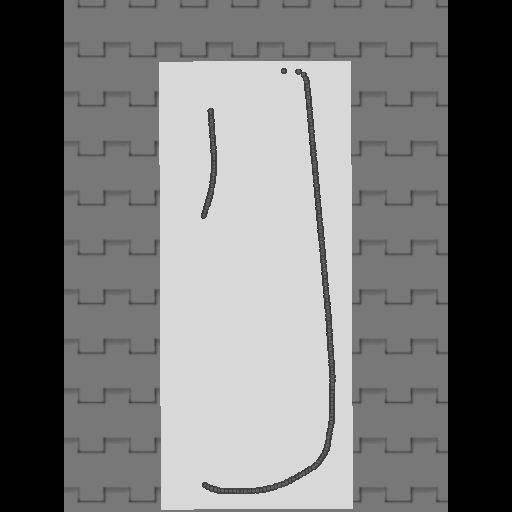Defect: (191, 217, 211, 484)
